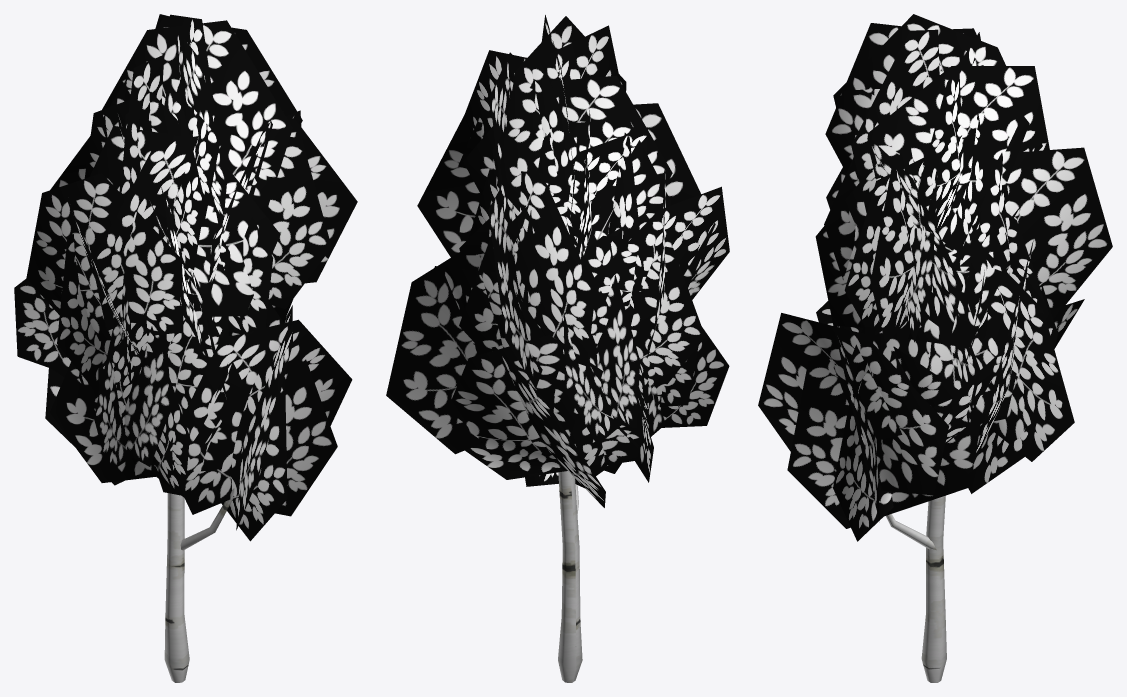
The model's file is P_BirchSapling1.obj.
3 views of the same model, side by side, from view 1: azimuth 30°, elevation 25°; view 2: azimuth 150°, elevation 25°; view 3: azimuth 270°, elevation 25° (orthographic). The views are drawn at different scales.
Bounding box in the file's own units: 3.55 × 8.12 × 3.88.
